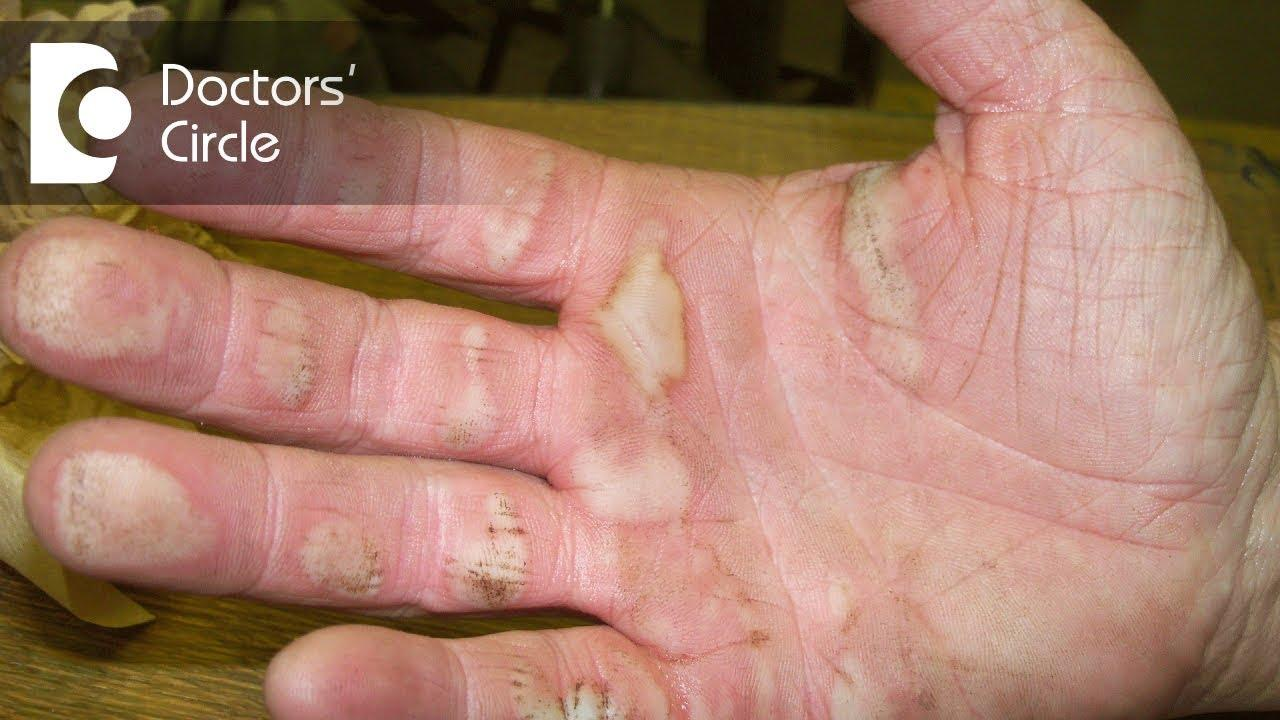burned-skin: (60, 427, 576, 601), (586, 210, 745, 541), (240, 279, 554, 413), (825, 170, 973, 407), (32, 223, 228, 392), (446, 129, 568, 259), (803, 599, 934, 719), (487, 642, 657, 716)
